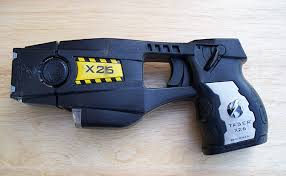Arma Falsa: (8, 34, 269, 154)
